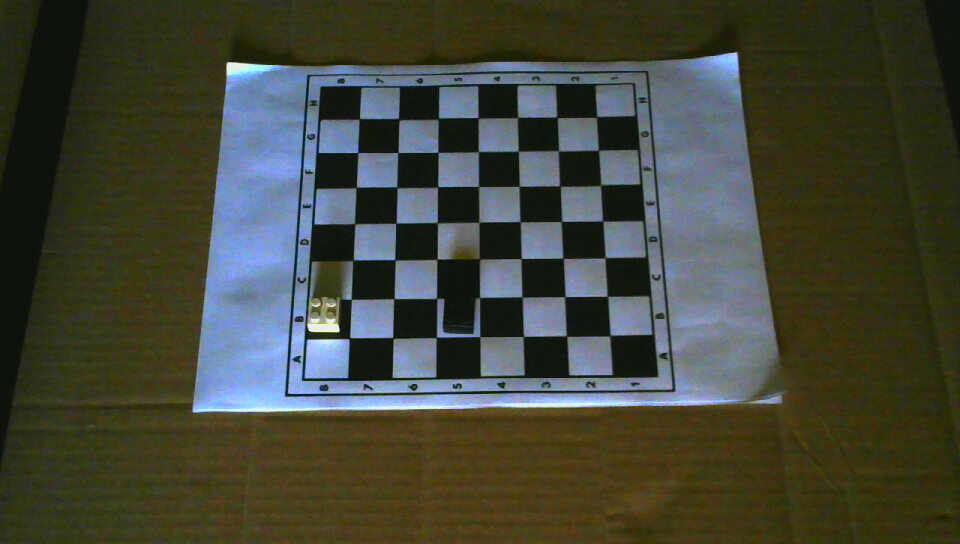bp: (442, 294, 476, 335)
wp: (306, 295, 341, 332)
